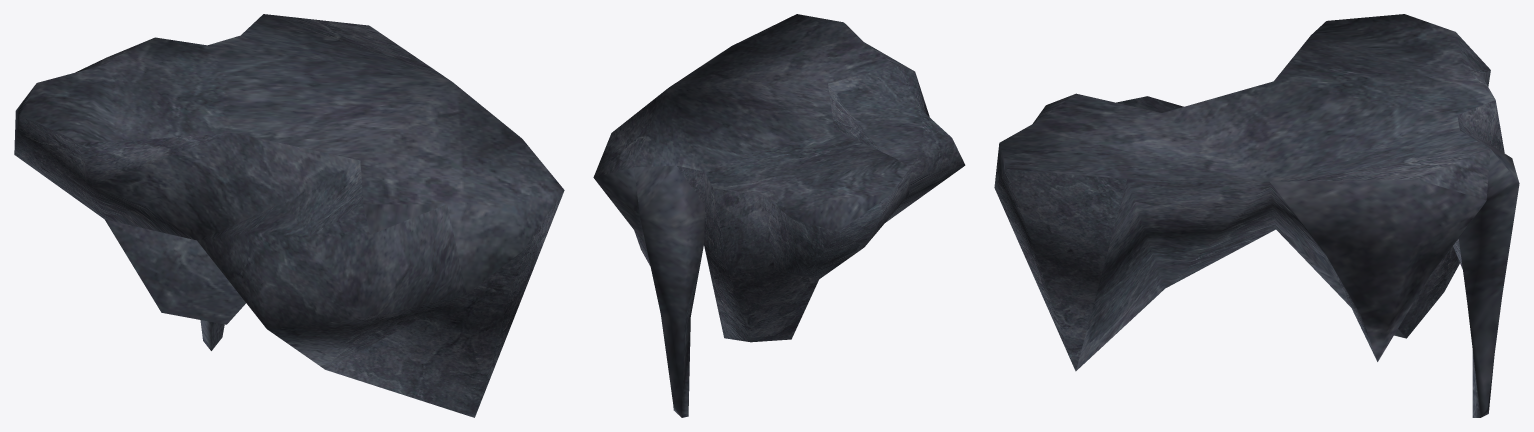
Rendered from tlfb2_duanmian01.FBX.
3 views of the same model, side by side, from view 1: azimuth 30°, elevation 25°; view 2: azimuth 150°, elevation 25°; view 3: azimuth 270°, elevation 25° (orthographic). The views are drawn at different scales.
Parts seen in each view (by area): view 1: tlfb2_duanmian01; view 2: tlfb2_duanmian01; view 3: tlfb2_duanmian01.
Part boxes in pixels (box(x1,y1,x2,y2)): tlfb2_duanmian01: box(14, 14, 564, 417); tlfb2_duanmian01: box(593, 14, 965, 417); tlfb2_duanmian01: box(994, 14, 1519, 417).
Bounding box in the file's own units: 785 × 666 × 1051.
